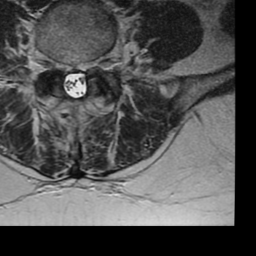CCS_normal: (71, 55, 79, 109)
LFS_stenosis: (89, 47, 98, 82)
LLS_normal: (79, 52, 89, 100)
RFS_normal: (52, 48, 60, 80)
RLS_normal: (60, 53, 71, 101)
